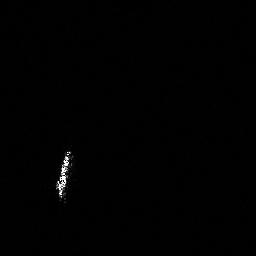ship: (53, 148, 75, 203)
